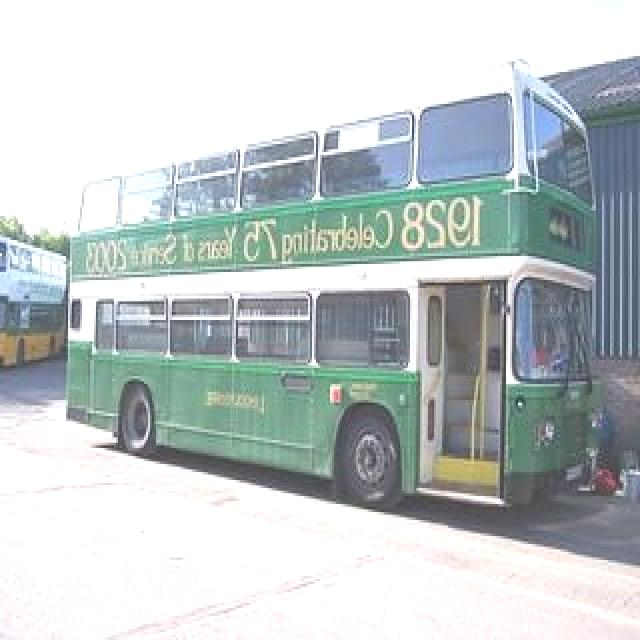Bus: (65, 61, 608, 518), (0, 230, 69, 380)
